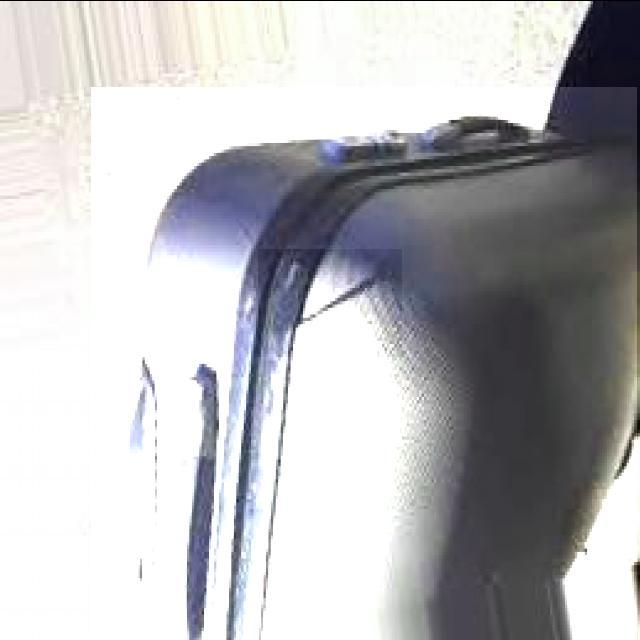Damage-bag: (301, 256, 401, 322)
